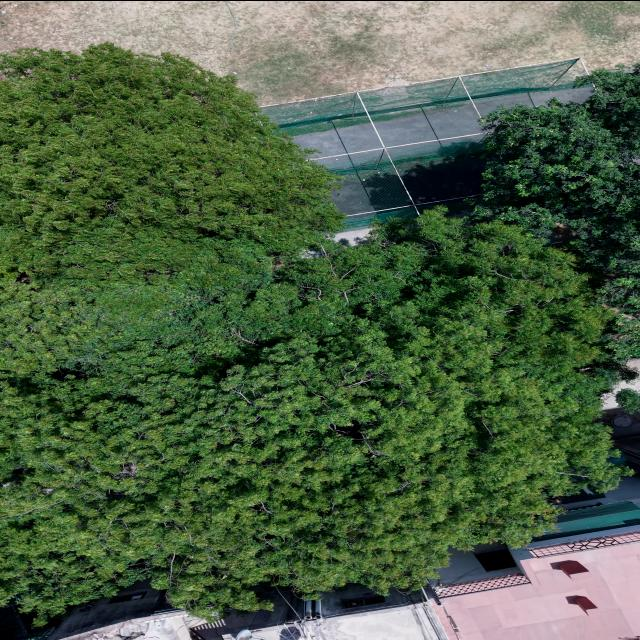DRY_AREA: (0, 1, 639, 104)
ROOFTOP_BUILDING: (2, 396, 639, 639), (2, 476, 639, 639)
VEGETATION_TREE: (0, 44, 623, 621), (1, 208, 620, 615), (0, 44, 342, 379), (475, 64, 639, 357), (615, 388, 639, 413)
